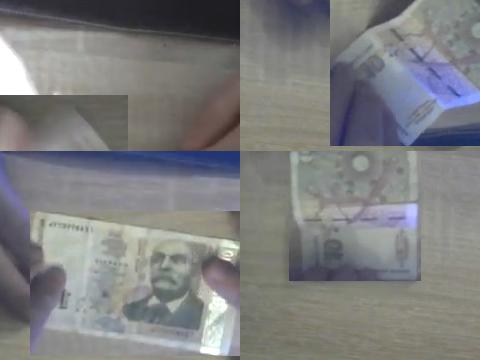10leva: (30, 211, 240, 356), (289, 151, 421, 281)
5leva: (0, 95, 114, 151)
